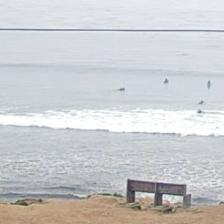surfer: (163, 78, 169, 85), (198, 100, 205, 106), (197, 109, 204, 115), (207, 80, 212, 88), (116, 88, 125, 92)
